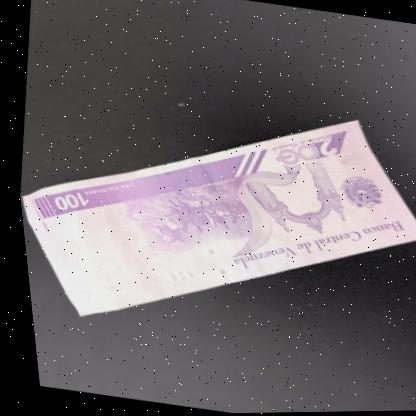one_hundred-back-vef: (6, 68, 416, 370)
